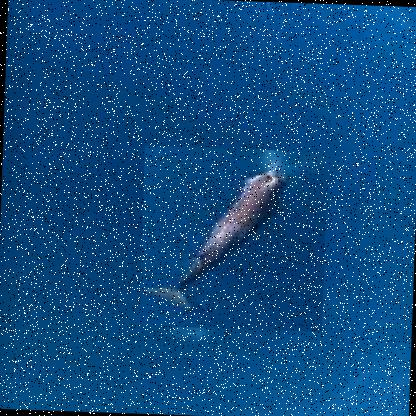sperm_whale: (137, 145, 327, 332)
